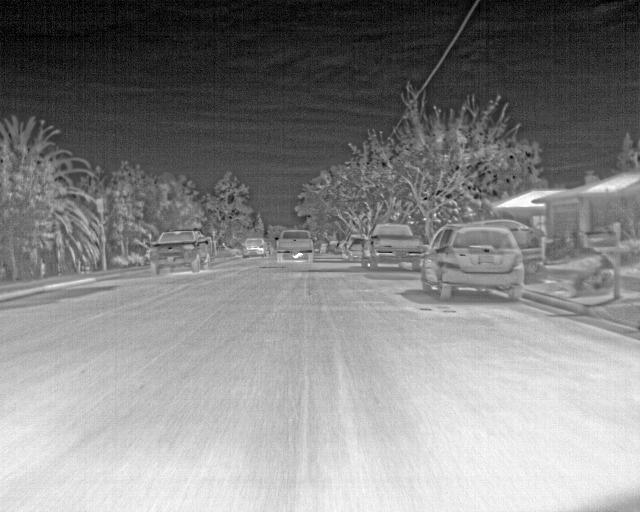car: (420, 225, 525, 300), (363, 221, 425, 271), (148, 230, 211, 273), (275, 229, 314, 261), (345, 236, 367, 262), (241, 237, 267, 256), (473, 219, 526, 225)
